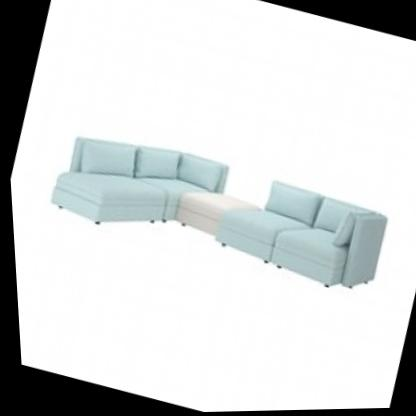Sofa: (20, 82, 404, 327)
